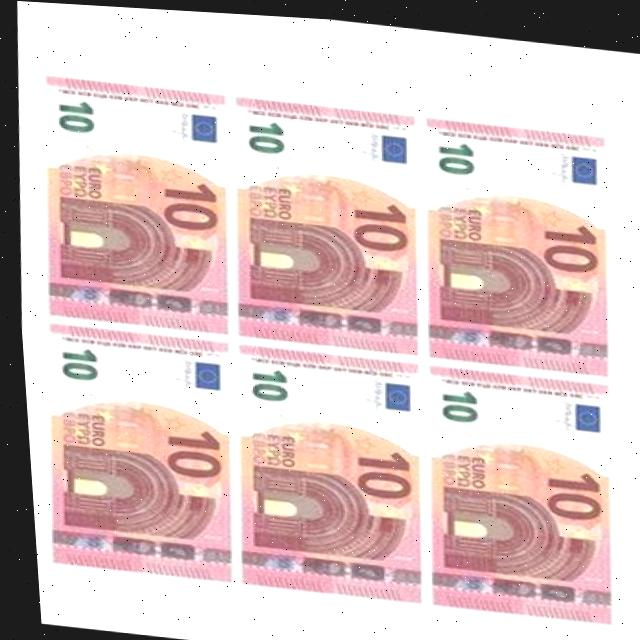banknote: (217, 92, 426, 372), (409, 111, 618, 389), (32, 70, 236, 353), (411, 370, 622, 623), (216, 351, 429, 600), (28, 335, 242, 581), (154, 421, 223, 485), (344, 441, 414, 501), (533, 459, 604, 517), (152, 177, 220, 236), (340, 195, 410, 252), (529, 215, 598, 272), (236, 360, 292, 407), (428, 133, 479, 179), (237, 114, 289, 159), (43, 97, 101, 136), (46, 344, 100, 385), (429, 383, 482, 420)
